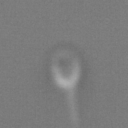normal: (61, 88, 88, 128)
